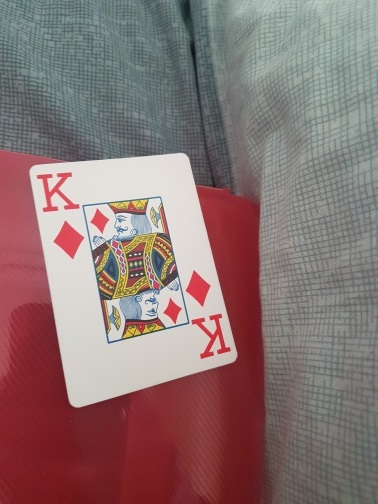king: (31, 151, 237, 410)
